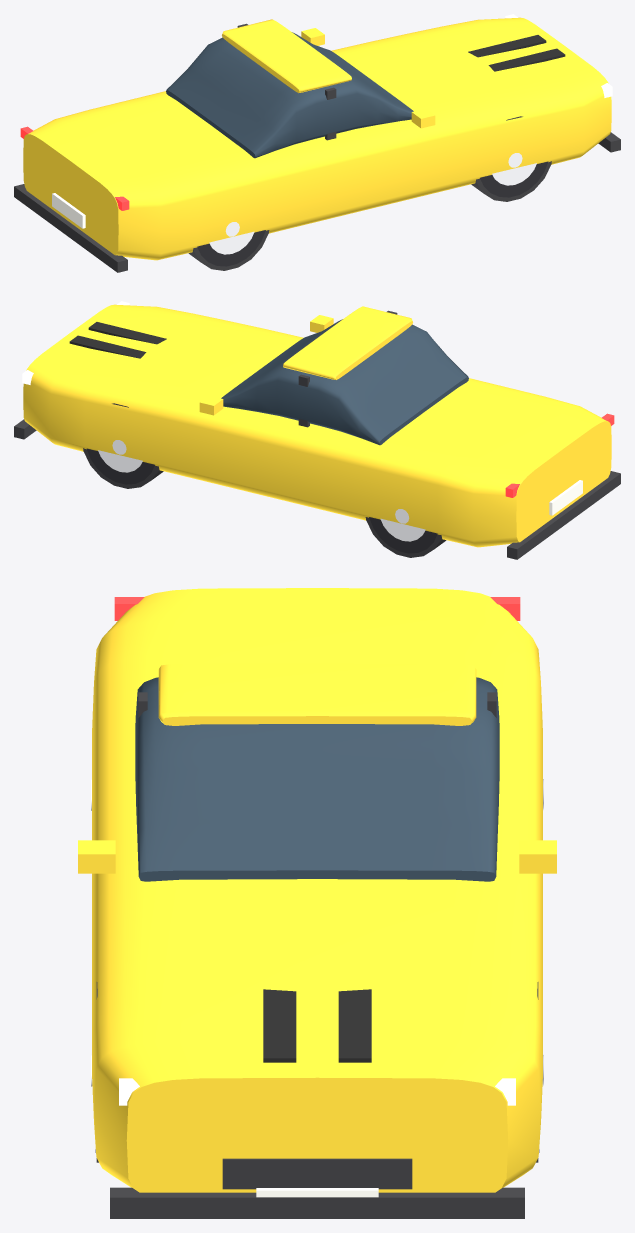
Rendered from car-muscle.glb.
3 views of the same model, one above another, from view 1: azimuth 30°, elevation 25°; view 2: azimuth 150°, elevation 25°; view 3: azimuth 270°, elevation 25° (orthographic). The views are drawn at different scales.
Visible parts, largest first — view 1: body, wheelRR, wheelFR; view 2: body, wheelRL, wheelFL; view 3: body.
Part boxes in pixels (box(x1,y1,x2,y2)): body: box(14, 14, 620, 272); wheelRR: box(197, 222, 265, 266); wheelFR: box(480, 153, 548, 197); body: box(14, 301, 620, 559); wheelRL: box(369, 509, 437, 553); wheelFL: box(87, 440, 154, 484); body: box(78, 588, 556, 1218).
Bounding box in the file's own units: 4.95 × 1.4 × 2.04.
